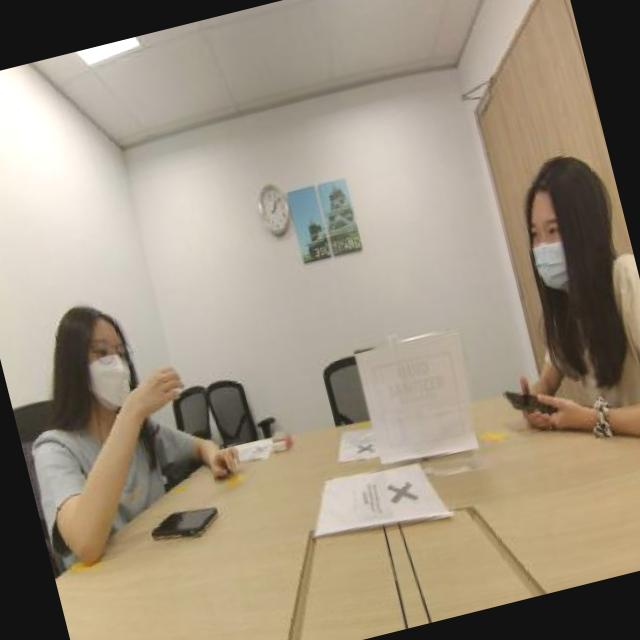Person: (0, 247, 235, 532), (489, 110, 640, 426)
